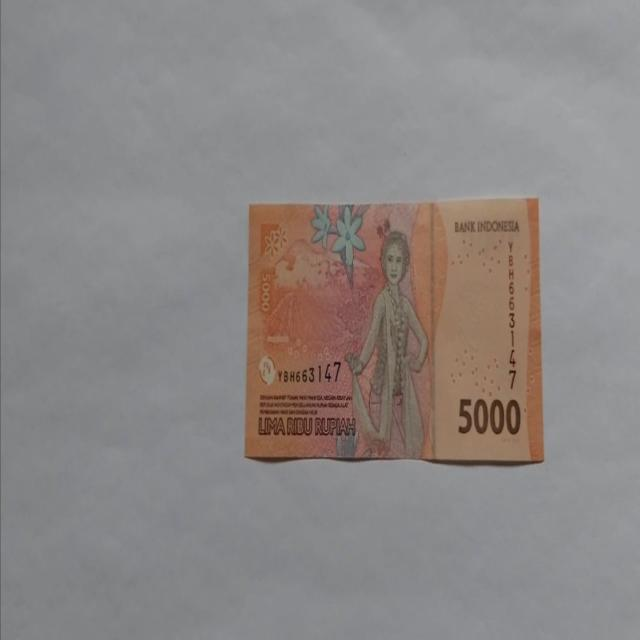lima ribu rupiah: (244, 196, 544, 464), (344, 229, 429, 459)
